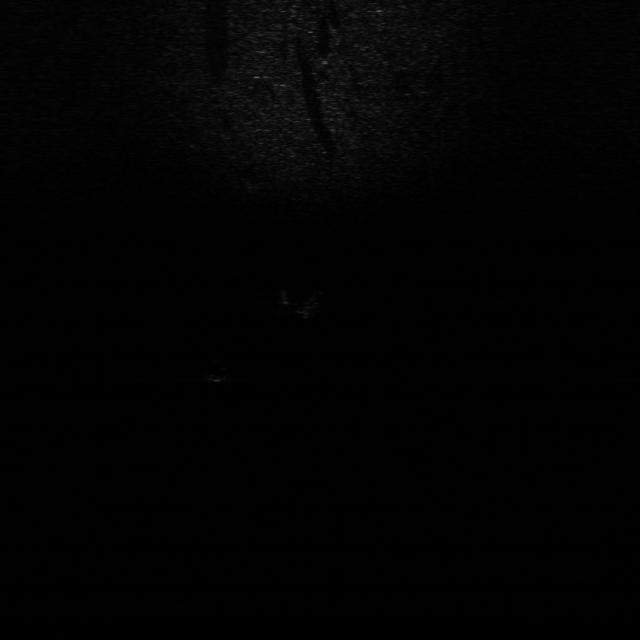ball: (207, 357, 234, 385)
human body: (270, 284, 330, 320)
